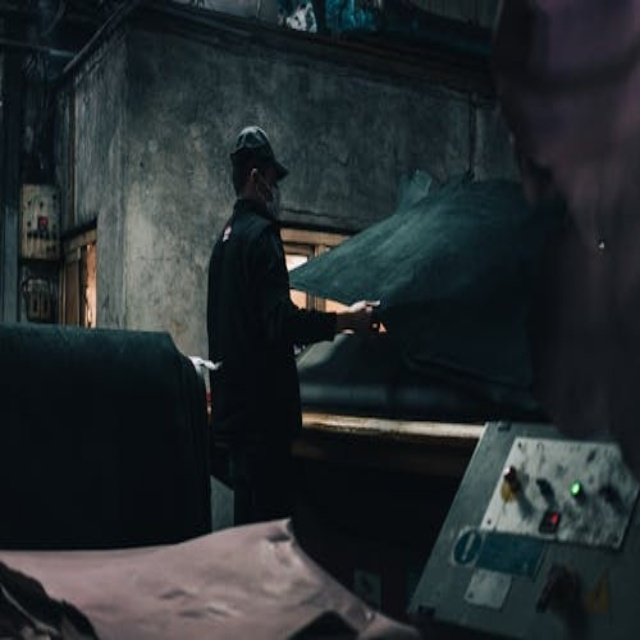Mascara: (248, 167, 285, 217)
